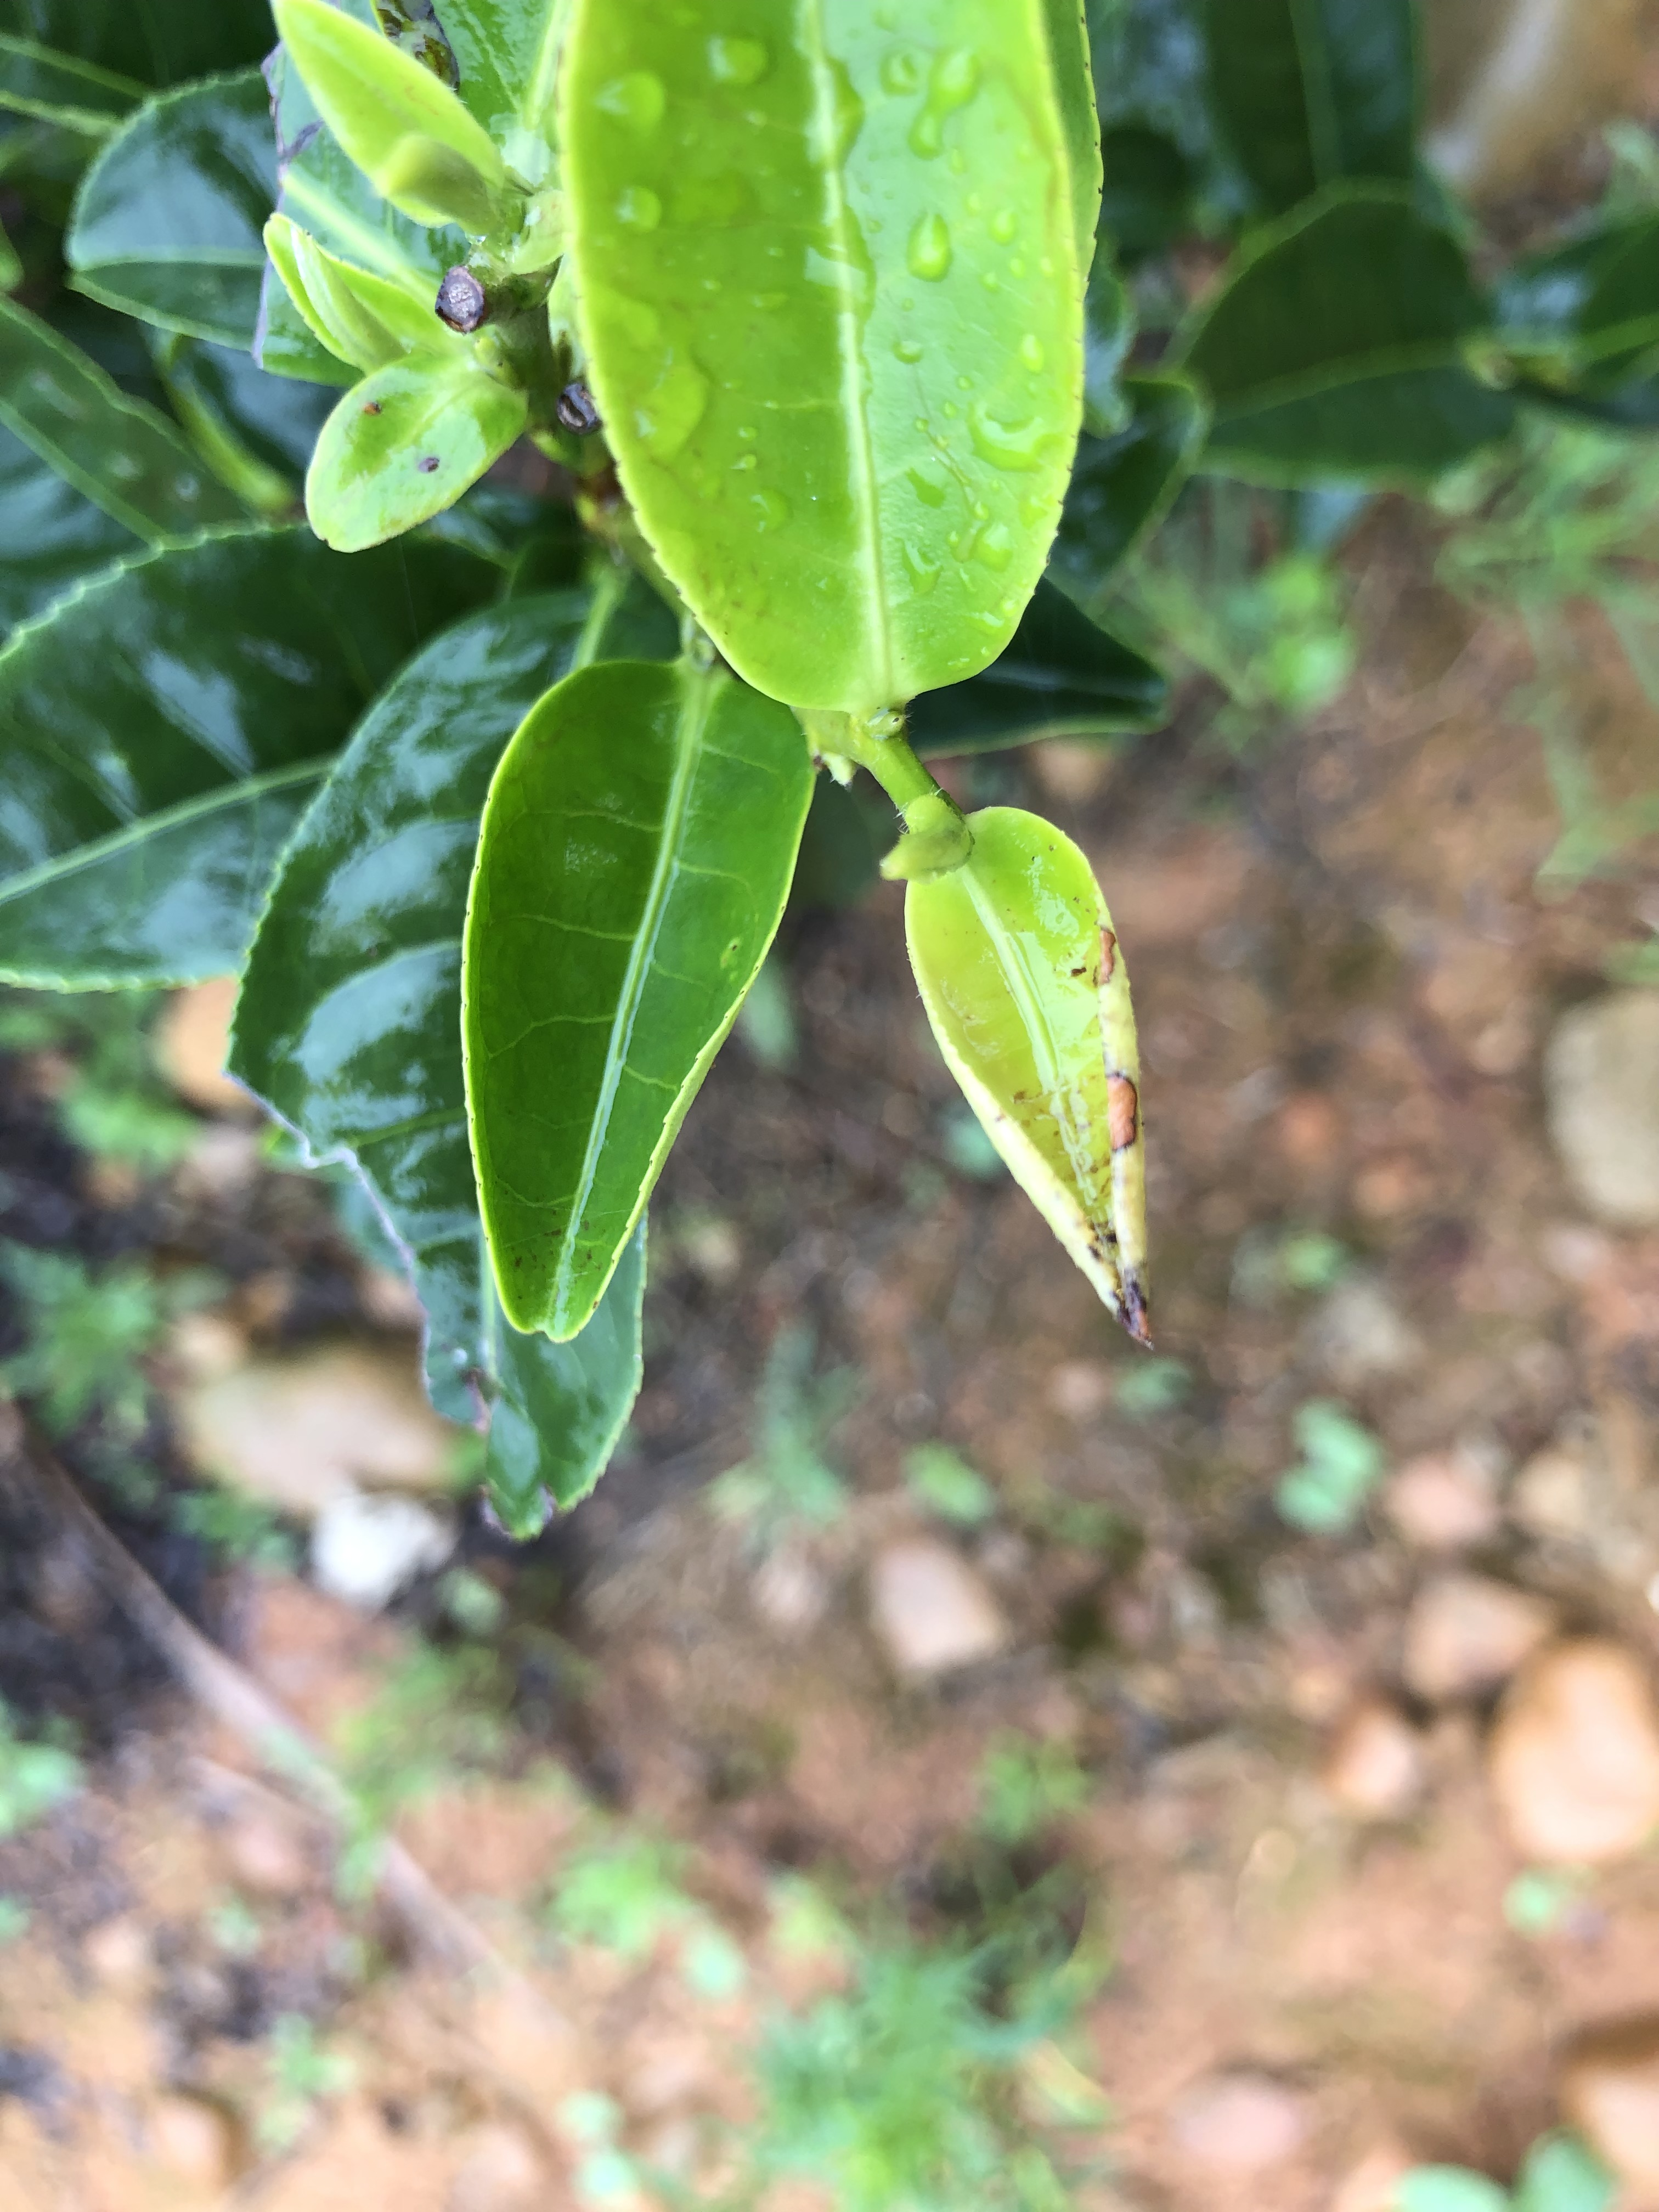formosa: (894, 784, 1162, 1379)
tortrix: (892, 815, 1159, 1390)
